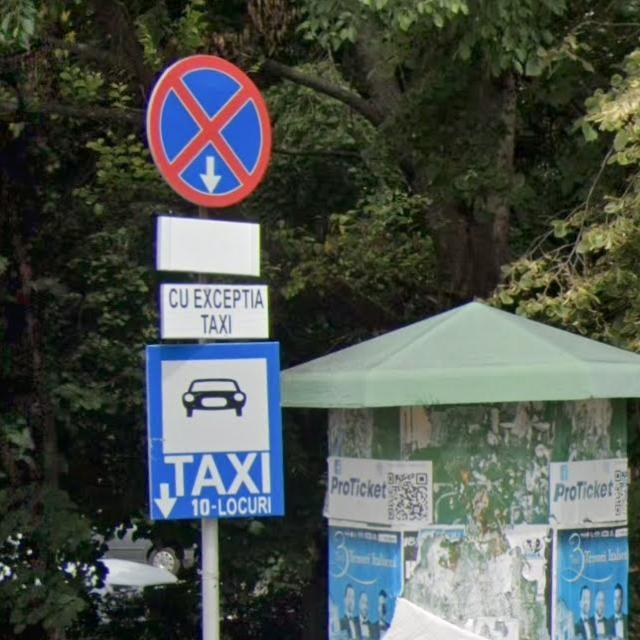forb_waiting: (146, 53, 272, 209)
